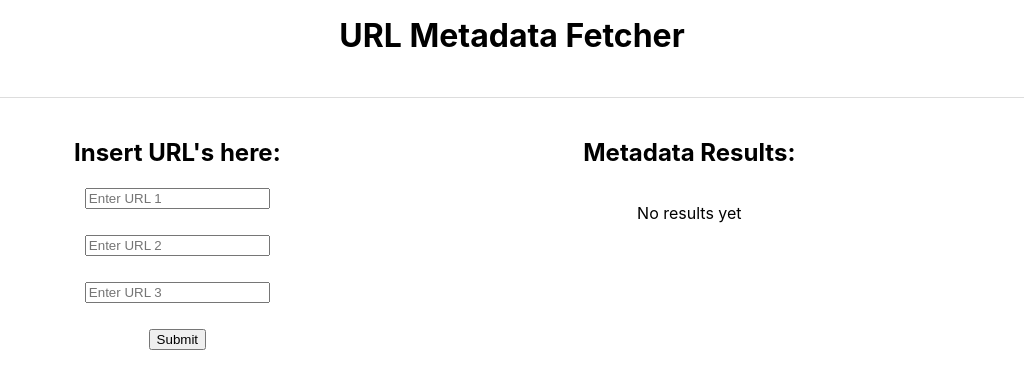
Test: renders the App component and performs real requests
Expected: the heading "URL Metadata Fetcher" is shown, [339, 16, 685, 55]
Type "https://example.com" into the field with placeholder "Enter URL 1" at point(177, 198), box [85, 188, 270, 209]
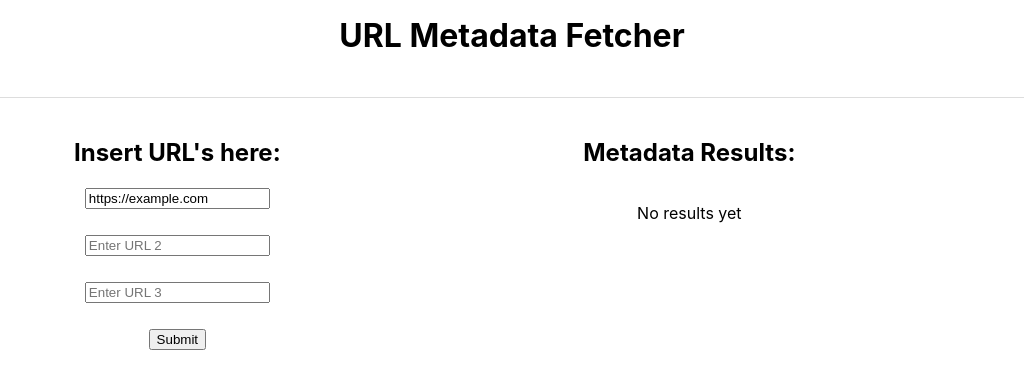
Click the button "Submit" at point(177, 339), box [149, 329, 206, 350]
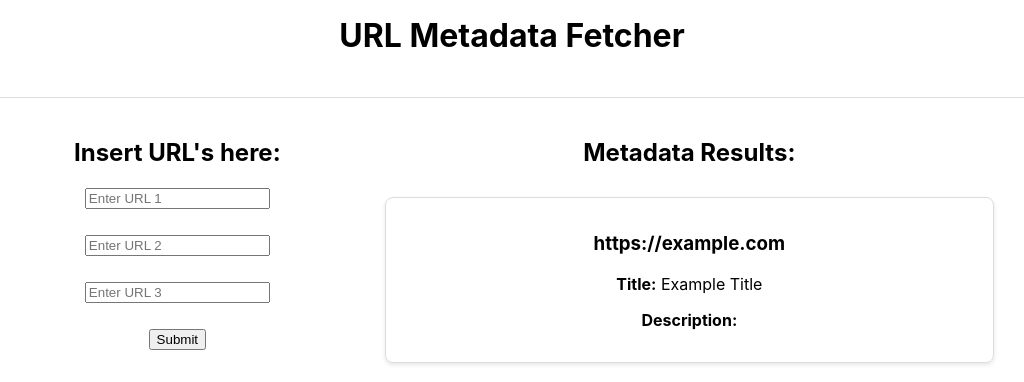
Expected: the heading "Metadata Results:" is shown, [583, 138, 796, 167]
Expected: the heading "https://example.com" is shown, [594, 232, 785, 255]
